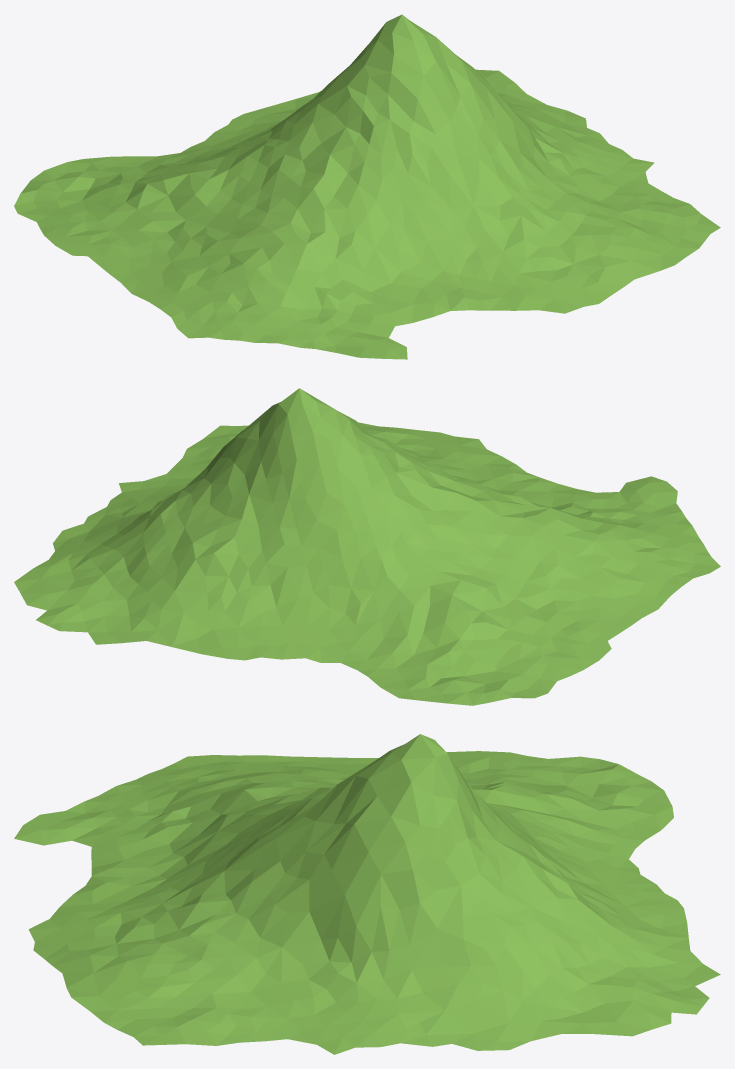
Rendered from MT_Mountain_L_a_28_LOD.fbx.
The picture shows the model from 3 angles, top to bottom: view 1: azimuth 30°, elevation 25°; view 2: azimuth 150°, elevation 25°; view 3: azimuth 270°, elevation 25°; orthographic projection. The views are drawn at different scales.
Visible parts, largest first — view 1: MT_Mountain_L_a_28_LOD0; view 2: MT_Mountain_L_a_28_LOD0; view 3: MT_Mountain_L_a_28_LOD0.
Boxes of the visible parts, x1,y1,x2,y2 form: MT_Mountain_L_a_28_LOD0: (14, 14, 720, 359); MT_Mountain_L_a_28_LOD0: (14, 388, 720, 705); MT_Mountain_L_a_28_LOD0: (14, 734, 720, 1054).
Size of what is drawn, in the model's own units: 8658 by 2703 by 8574.
